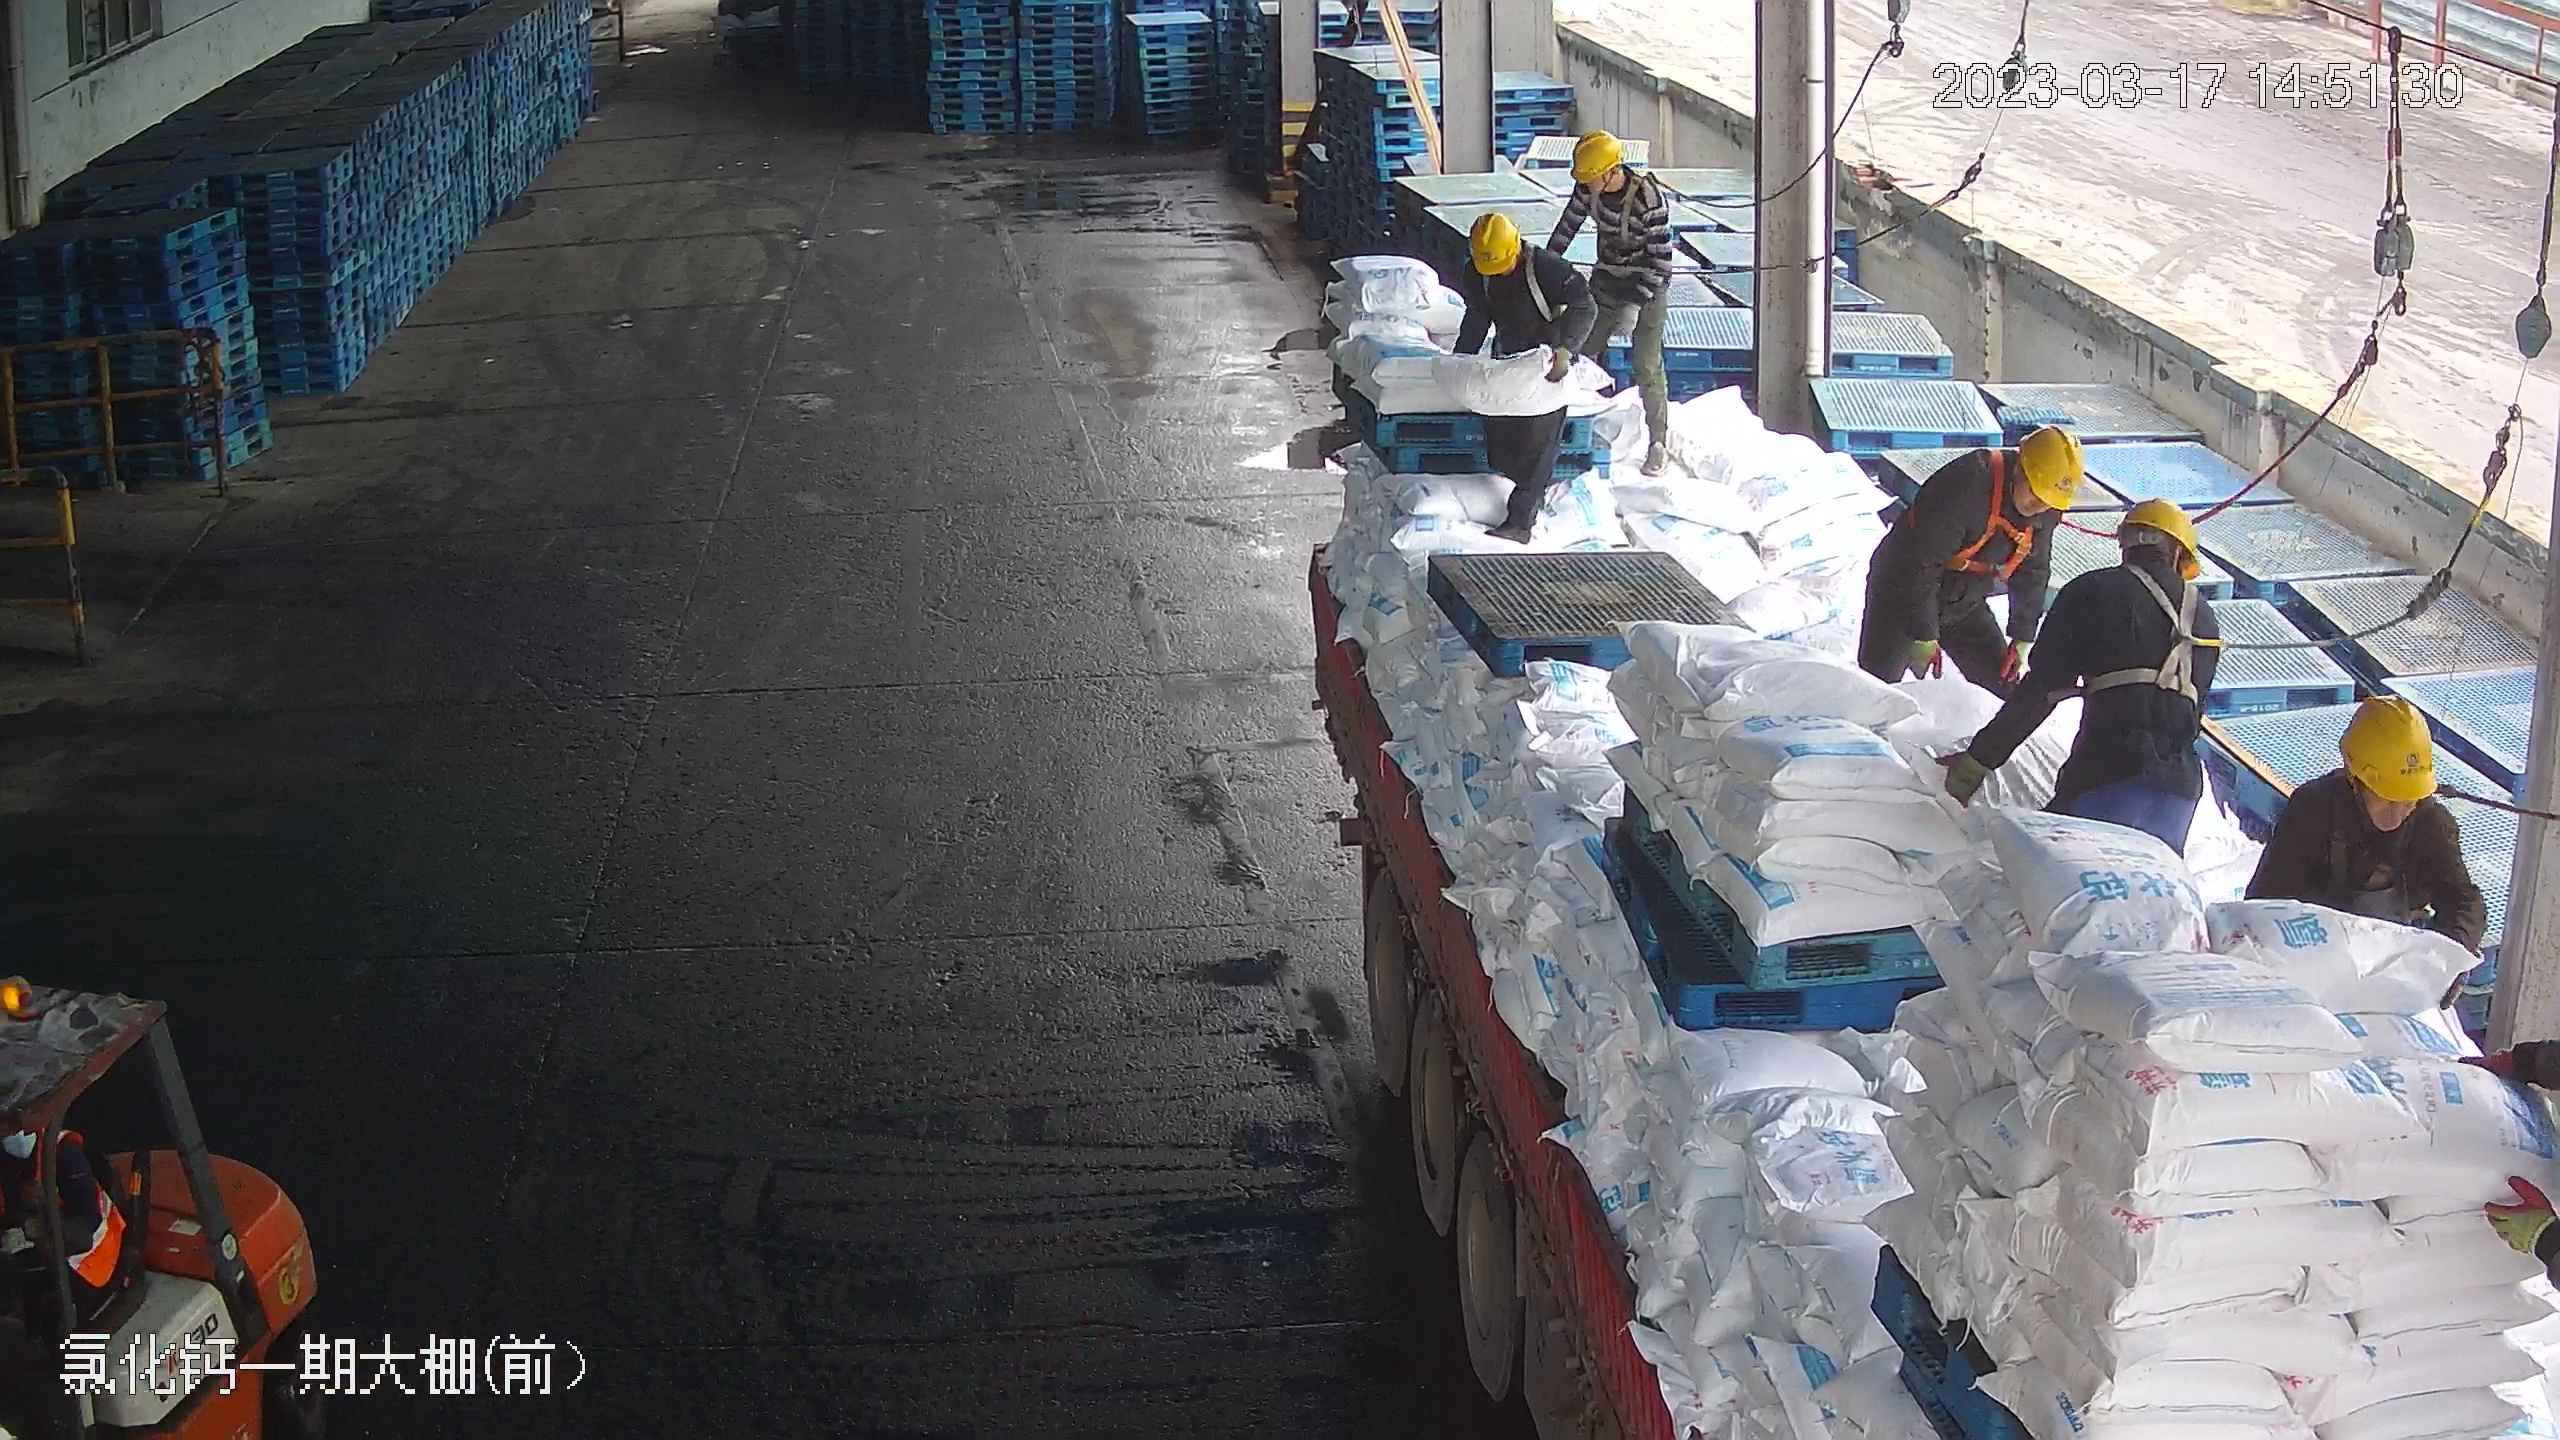belt: (2085, 561, 2216, 694), (1917, 447, 2033, 574), (2326, 779, 2438, 876), (1584, 176, 1665, 254), (1486, 244, 1567, 316)
head: (2277, 685, 2462, 868), (2061, 494, 2215, 642), (1933, 422, 2085, 540), (1460, 206, 1586, 311), (1562, 127, 1671, 223)
helmet: (2336, 689, 2435, 800), (2116, 492, 2198, 575), (2015, 422, 2085, 510), (1468, 209, 1522, 272), (1567, 128, 1626, 182)
people: (1934, 499, 2220, 862), (1850, 419, 2087, 696), (1454, 209, 1595, 539), (1559, 126, 1683, 476)
truck: (1271, 107, 2555, 1437)
